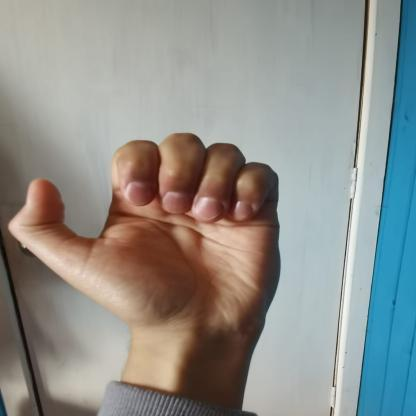E: (7, 114, 302, 344)
